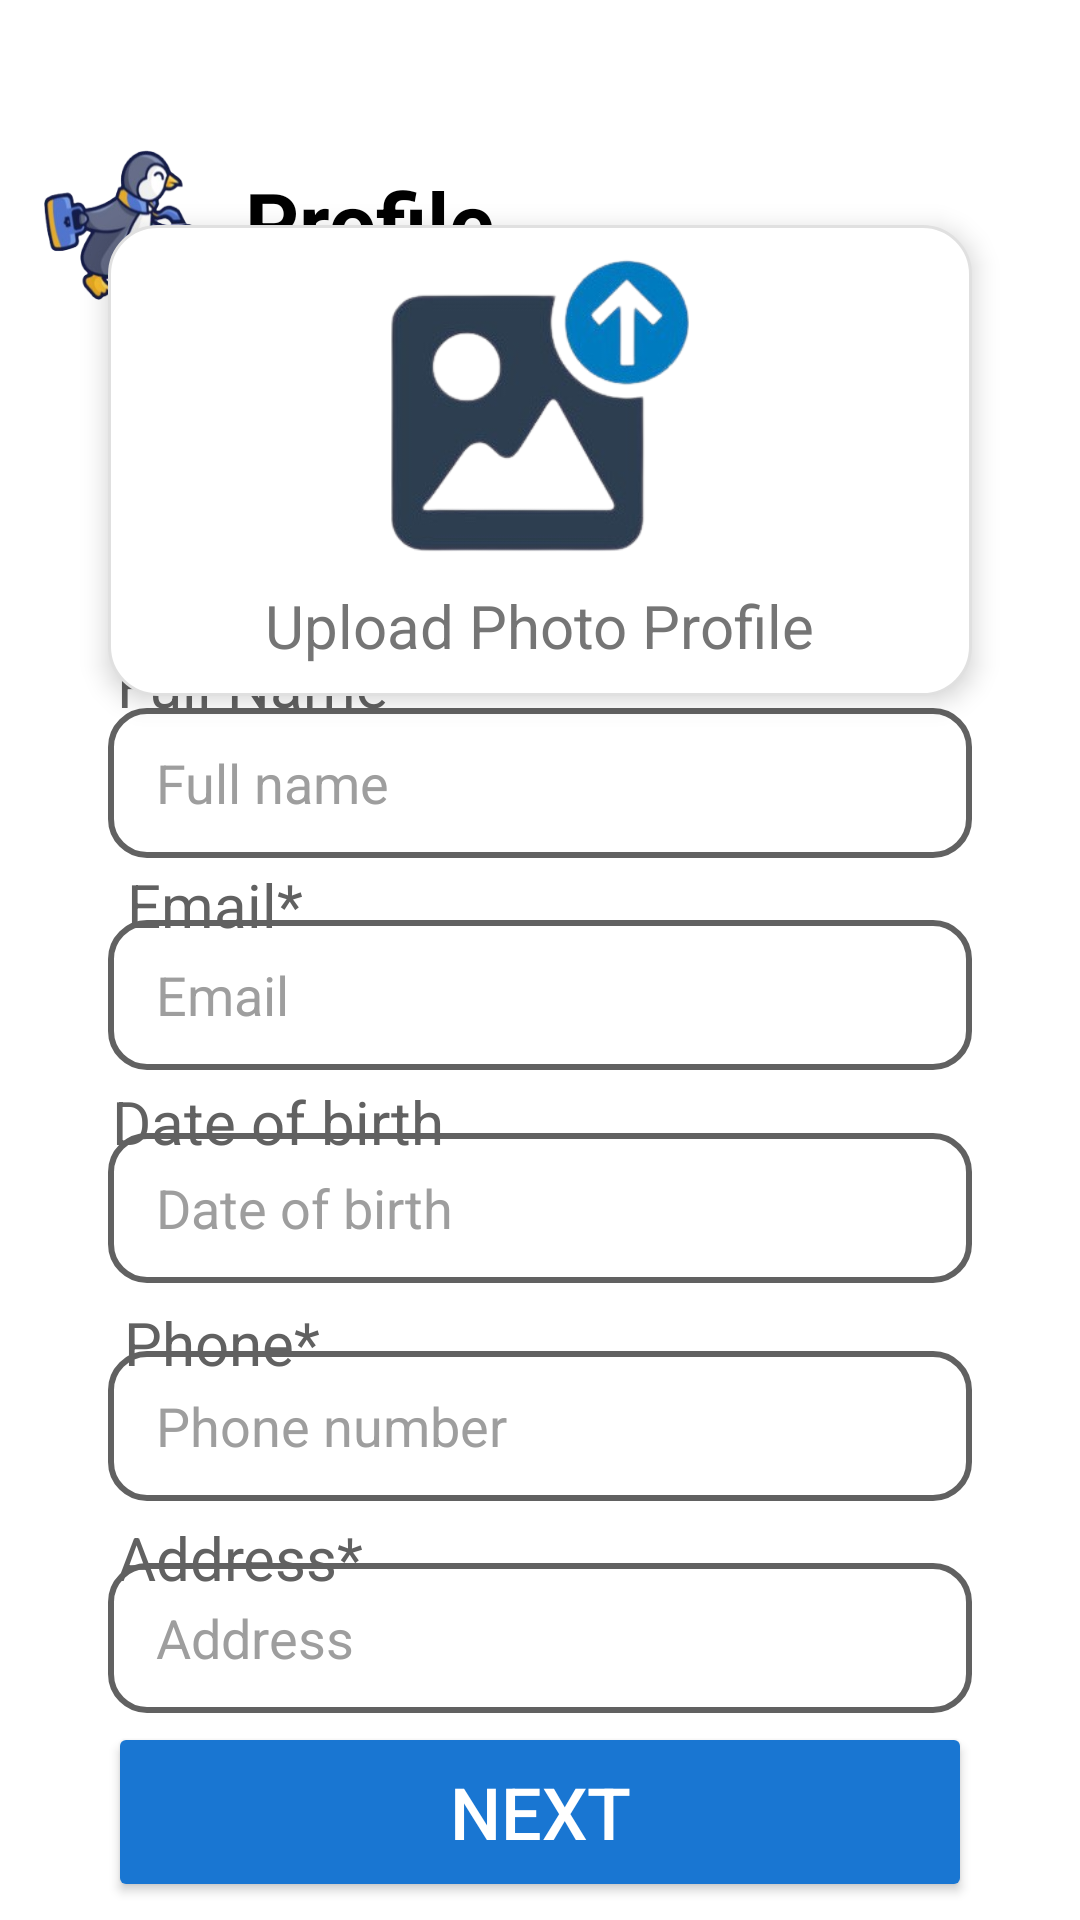

Named icons in this screenshot (1080x1920) and their bounding boxes, (x1, y1, x2, y2):
penguin: (44, 150, 194, 300)
